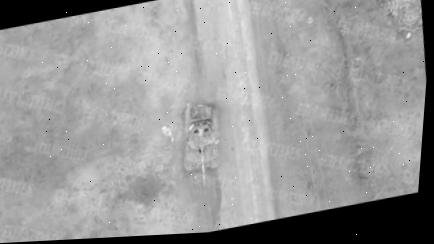tank: (172, 98, 228, 193)
